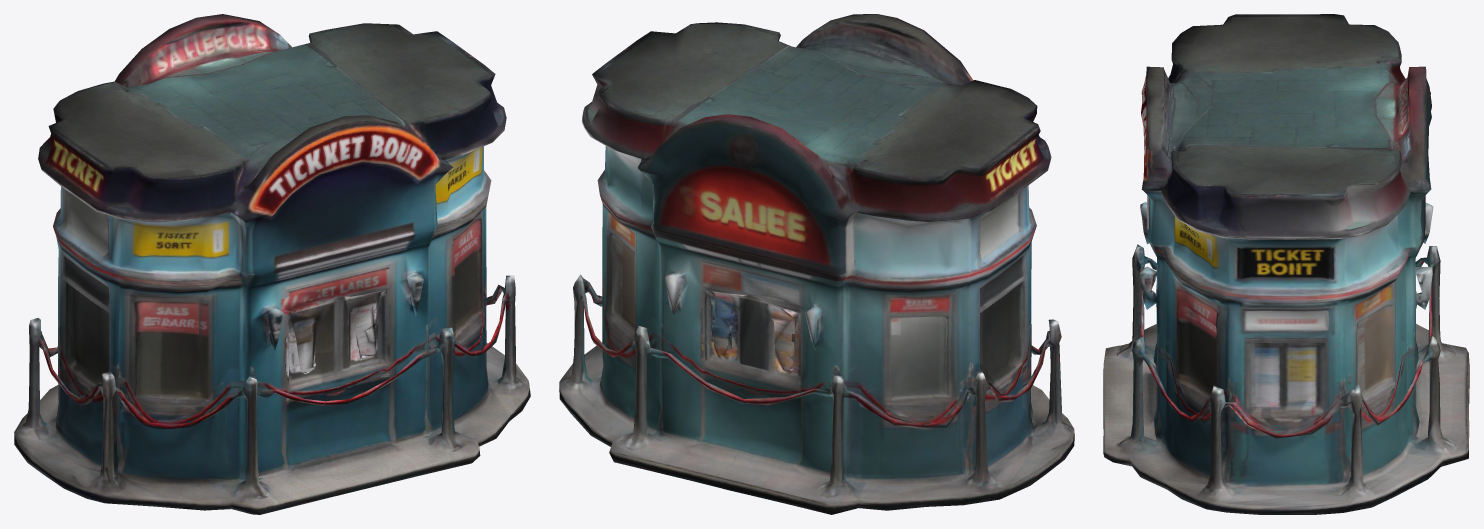
3 renders of one model, left to right at view 1: azimuth 30°, elevation 25°; view 2: azimuth 150°, elevation 25°; view 3: azimuth 270°, elevation 25°, orthographic. The views are drawn at different scales.
Visible parts, largest first — view 1: Mesh1; view 2: Mesh1; view 3: Mesh1.
Boxes of the visible parts, left/top/right/bottom form: Mesh1: left=14, top=14, right=530, bottom=514; Mesh1: left=559, top=14, right=1074, bottom=514; Mesh1: left=1103, top=14, right=1469, bottom=514.
Bounding box in the file's own units: 200 × 145 × 145.
1 material, 1 textured.
